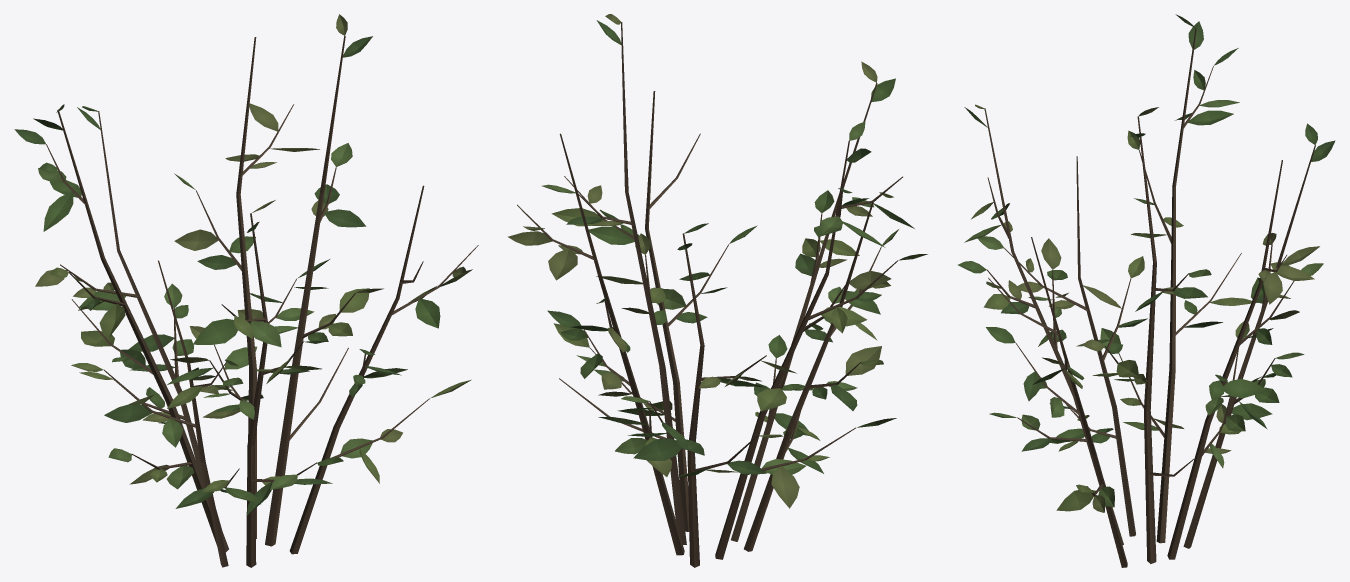
The model's file is bush_b.glb.
3 views of the same model, side by side, from view 1: azimuth 30°, elevation 25°; view 2: azimuth 150°, elevation 25°; view 3: azimuth 270°, elevation 25° (orthographic). The views are drawn at different scales.
Visible parts, largest first — view 1: Bush B; view 2: Bush B; view 3: Bush B.
Boxes of the visible parts, x1=… form: Bush B: x1=14, y1=14, x2=478, y2=567; Bush B: x1=508, y1=14, x2=927, y2=567; Bush B: x1=958, y1=14, x2=1335, y2=567.
Bounding box in the file's own units: 0.9 × 1.1 × 0.77.
